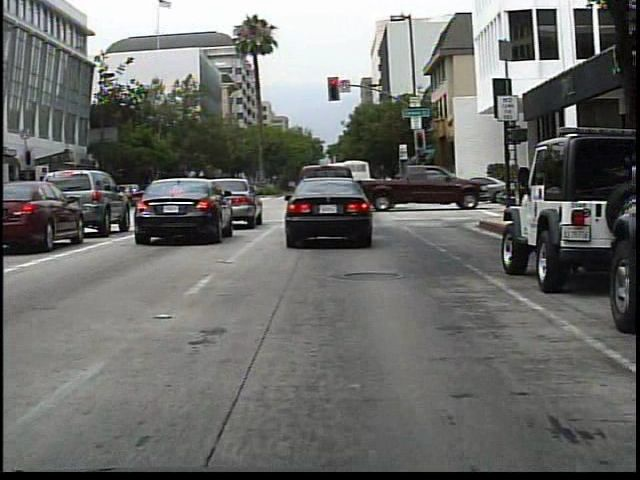person: (428, 166, 443, 198), (444, 167, 461, 195)
